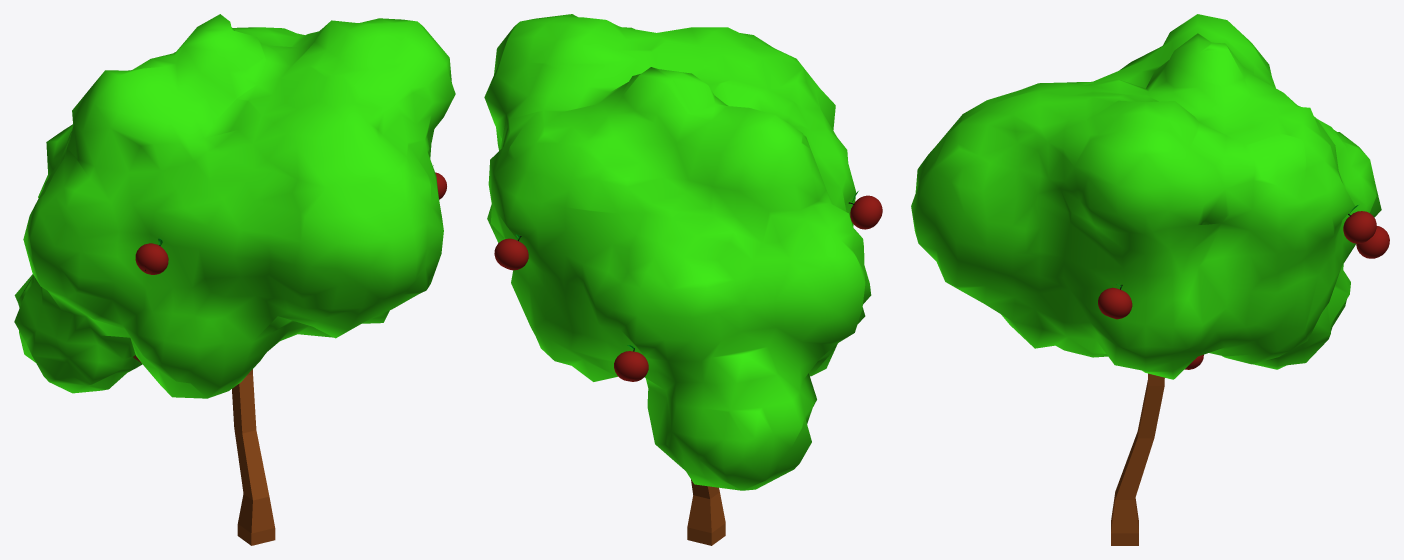
File: SM_AppleTree_001.fbx
3 renders of one model, left to right at view 1: azimuth 30°, elevation 25°; view 2: azimuth 150°, elevation 25°; view 3: azimuth 270°, elevation 25°, orthographic. The views are drawn at different scales.
Parts seen in each view (by area): view 1: AppleTree; view 2: AppleTree; view 3: AppleTree.
Boxes of the visible parts, x1,y1,x2,y2 form: AppleTree: [14, 14, 455, 545]; AppleTree: [484, 14, 882, 545]; AppleTree: [911, 14, 1389, 545].
Size of the model in its own units: 322 by 385 by 336.
